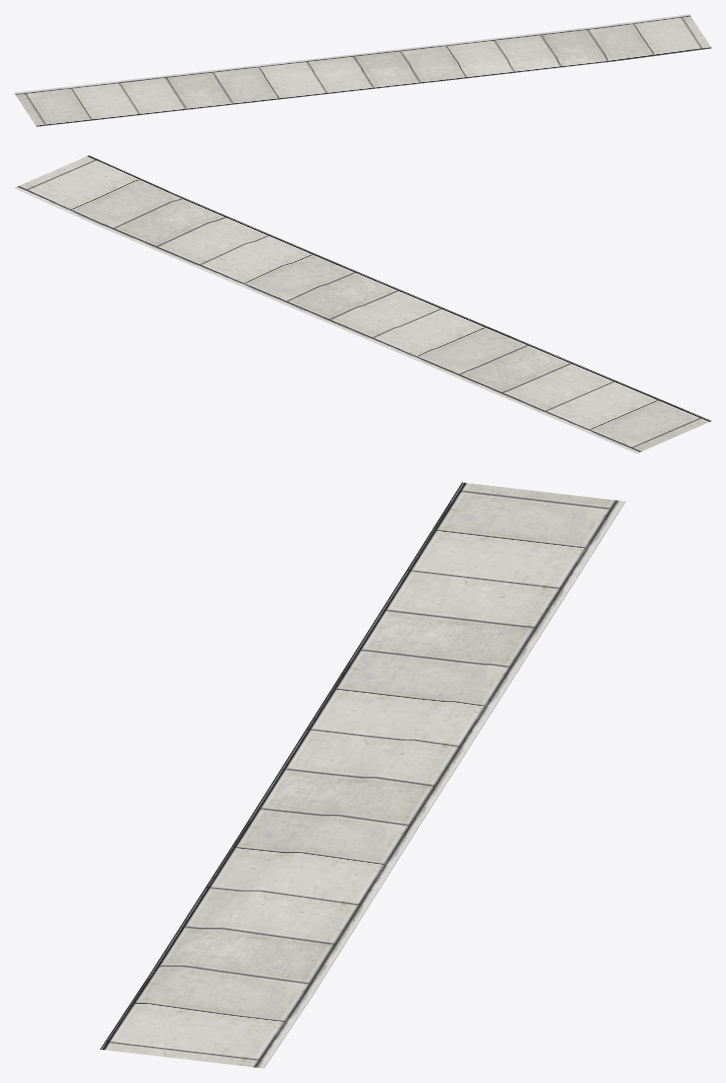
The model's file is STA20_floormed22.FBX.
3 renders of one model, top to bottom at view 1: azimuth 30°, elevation 25°; view 2: azimuth 150°, elevation 25°; view 3: azimuth 270°, elevation 25°, orthographic. The views are drawn at different scales.
Visible parts, largest first — view 1: STA20_floormed22; view 2: STA20_floormed22; view 3: STA20_floormed22.
Boxes of the visible parts, <box> form: STA20_floormed22: <box>14,14,711,126</box>; STA20_floormed22: <box>14,155,711,453</box>; STA20_floormed22: <box>100,482,625,1068</box>.
Size of the model in its own units: 17.97 by 0.0705 by 6.78.
